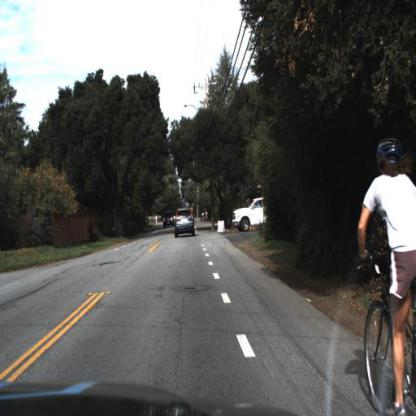biker: (357, 137, 416, 416)
car: (230, 187, 270, 238), (171, 202, 201, 245), (161, 209, 177, 231)
